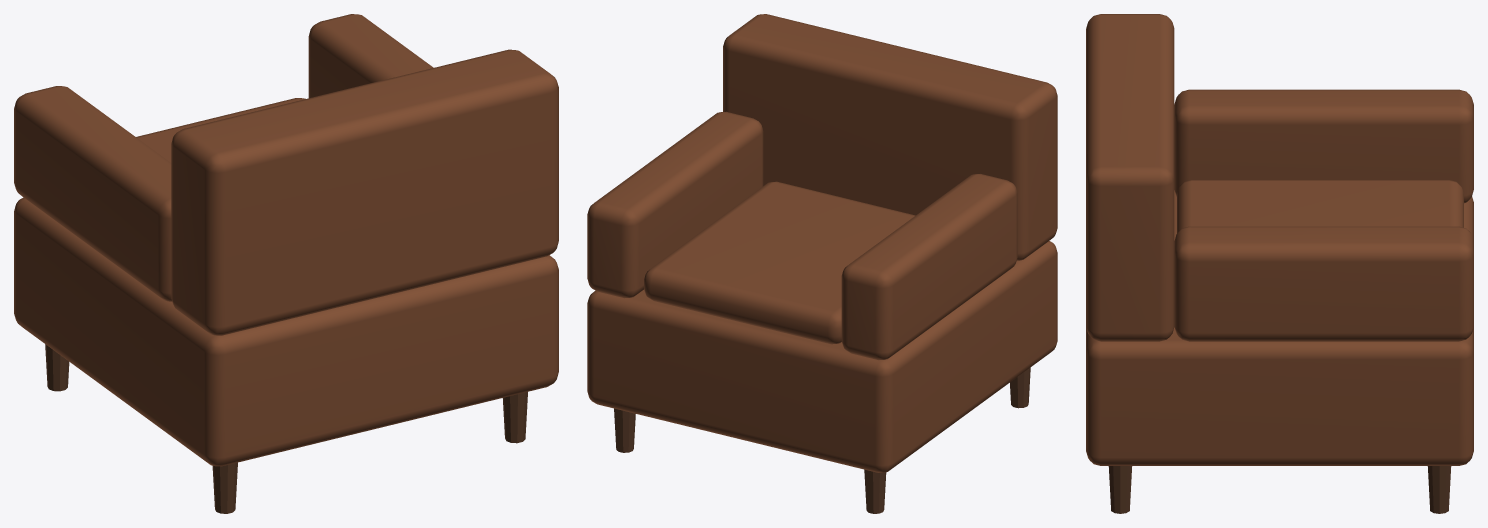
Rendered from prop_armchair_club.glb.
The picture shows the model from 3 angles, left to right: view 1: azimuth 30°, elevation 25°; view 2: azimuth 150°, elevation 25°; view 3: azimuth 270°, elevation 25°; orthographic projection. The views are drawn at different scales.
Parts seen in each view (by area): view 1: Armchair; view 2: Armchair; view 3: Armchair.
Part boxes in pixels (left/top/right/bottom): Armchair: left=14, top=14, right=558, bottom=513; Armchair: left=587, top=14, right=1057, bottom=513; Armchair: left=1086, top=14, right=1473, bottom=513.
Size of what is drawn, in the model's own units: 0.79 by 0.79 by 0.79.
